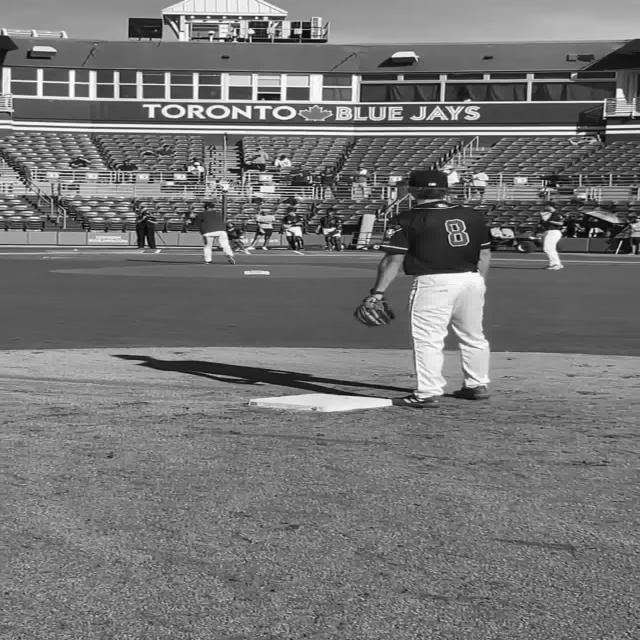base: (248, 392, 408, 412)
baseball_glove: (353, 292, 395, 326)
shoe: (390, 394, 440, 407), (456, 385, 490, 399), (543, 264, 563, 270), (226, 255, 235, 264)
